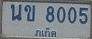txt02: (23, 4, 36, 22)
txt20: (9, 3, 22, 21)
